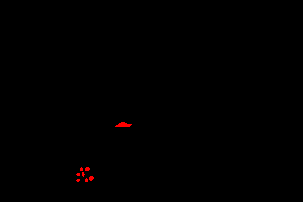Target: (115, 122, 132, 127), (89, 176, 94, 181), (85, 167, 90, 171), (82, 172, 85, 177), (80, 167, 83, 171), (76, 173, 80, 176), (85, 178, 88, 182), (76, 179, 80, 182)
